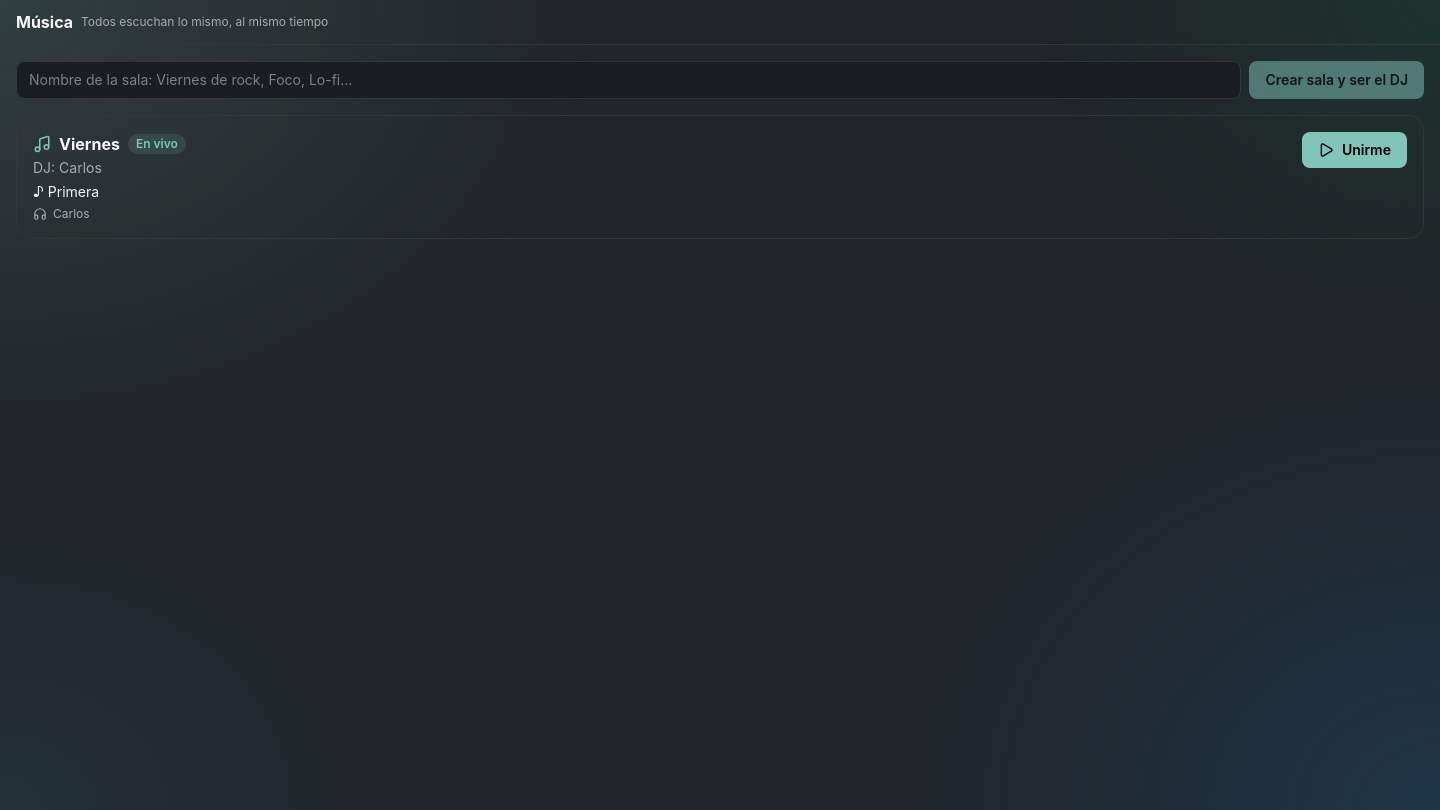
Scenario: music rooms › a listener joins, hears the room's moment, and can't control it; then leaves
The image size is (1440, 810).
Later steps or results of the test are not shown.
Expected: the text "♪ Primera" is shown, [33,183,99,200]
Click the button "Unirme". click: (1354, 150)
box: [1302,132,1407,168]
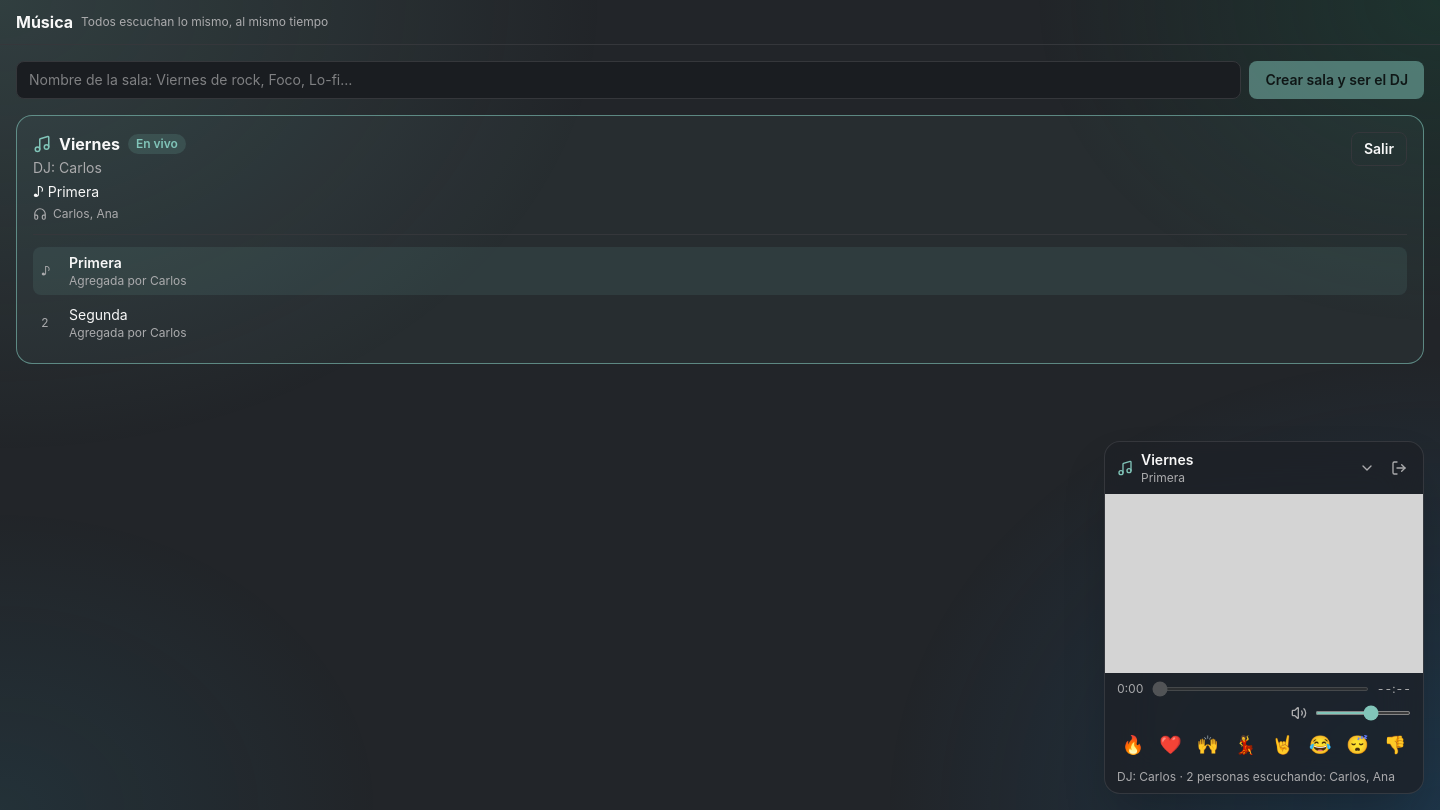
Now the slider named "Tu volumen" is shown, box [1315,711,1411,715]
